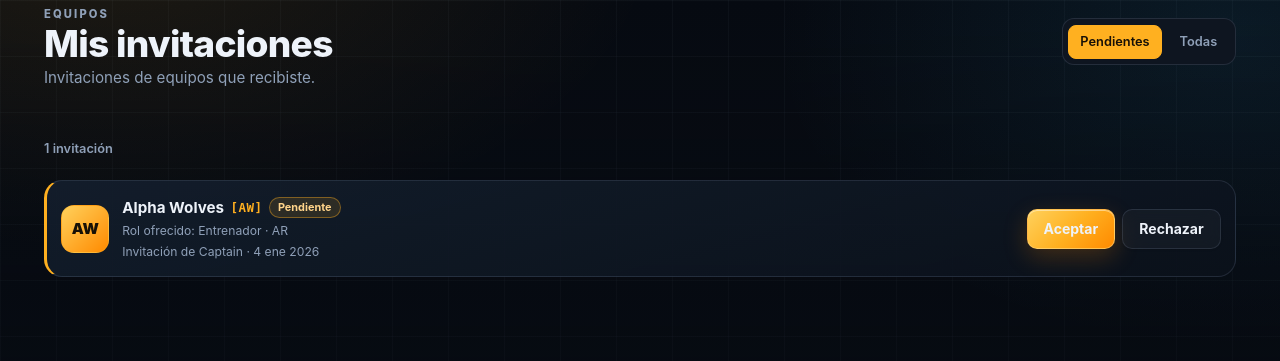
Test: Invitations page › rejects an invitation and reloads
Click the button "Rechazar". click: (1171, 229)
box: [1122,209,1221,249]
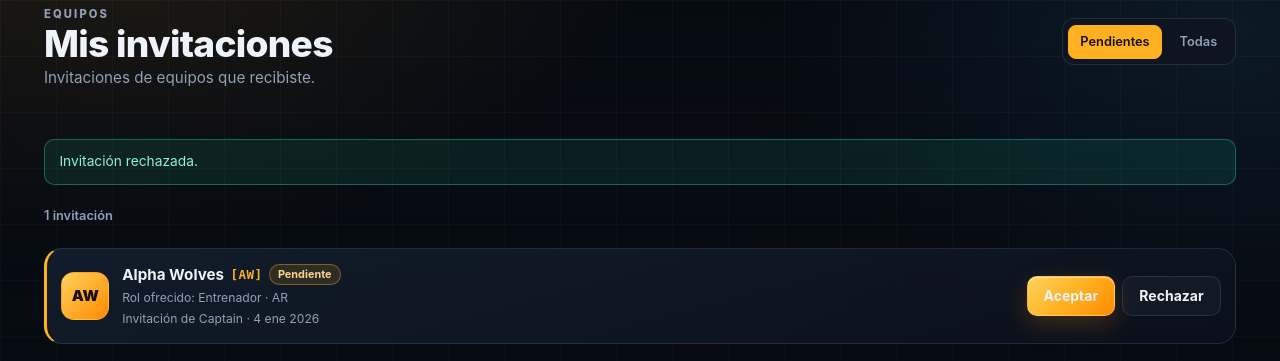
Expected: the text "Invitación rechazada." is shown, [44,139,1236,184]
